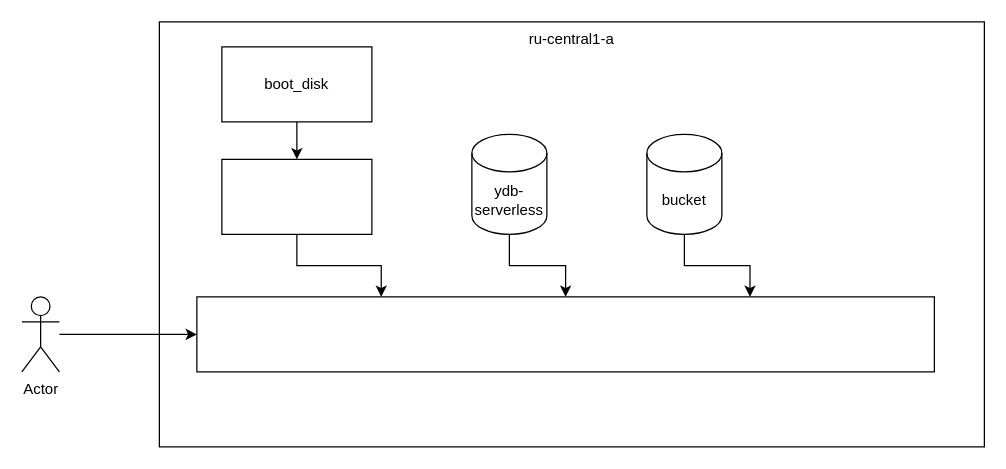
This 1006x469 diagram has some shape labels left out. The shapes that lost their labels are listed below. From the top down, each one's centre as x and y in pixels, then its label:
At [296,196]: "scraper-vm".
At [565,334]: "network1-subnet1 192.168.10.0/24".
